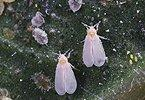whitefly: (79, 21, 108, 69), (51, 49, 77, 96)
